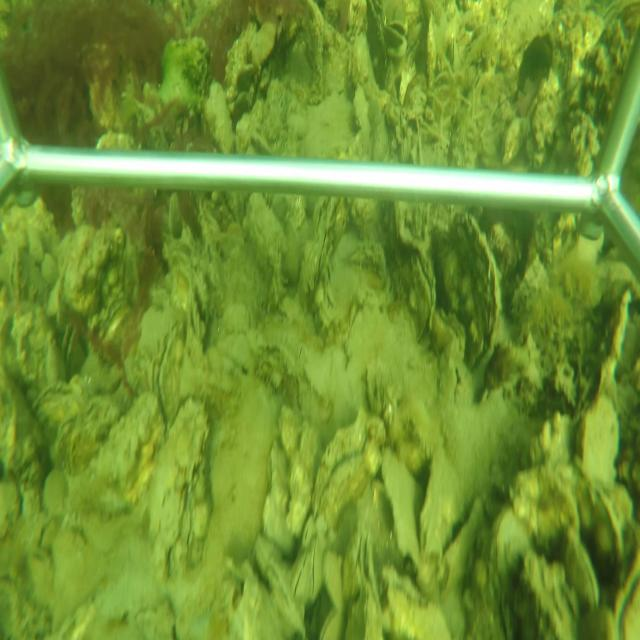Oyster-Closed: (456, 211, 502, 370), (252, 531, 308, 639), (312, 411, 364, 527), (305, 200, 344, 297), (156, 316, 189, 425), (404, 245, 436, 344), (564, 533, 602, 612), (363, 530, 380, 619), (322, 548, 343, 611), (309, 530, 322, 608), (292, 552, 310, 600), (425, 13, 437, 81), (319, 607, 342, 636)
Oyster-Indeterminate: (144, 395, 210, 583), (75, 390, 162, 511), (379, 444, 447, 598), (417, 446, 468, 562), (244, 192, 286, 312), (577, 396, 621, 488)
Oyster-Open: (384, 17, 408, 47), (62, 322, 77, 369)
